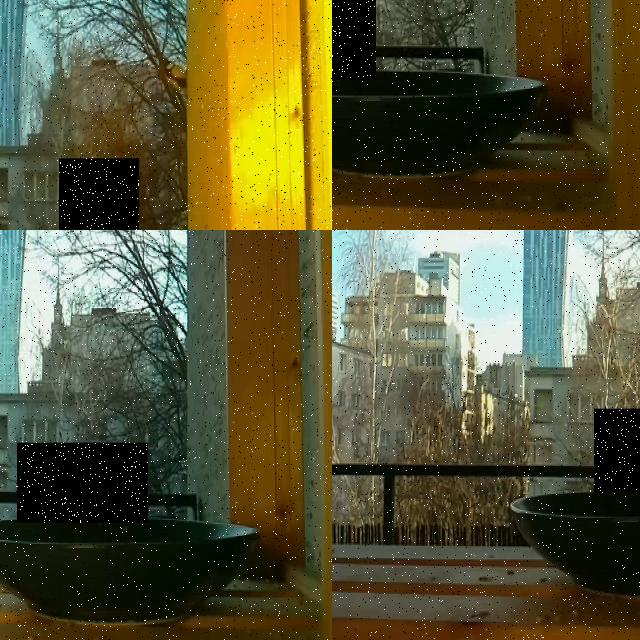Modraszka: (59, 158, 139, 230), (594, 408, 640, 492)
Wrobel: (17, 442, 148, 522), (332, 0, 376, 79)
